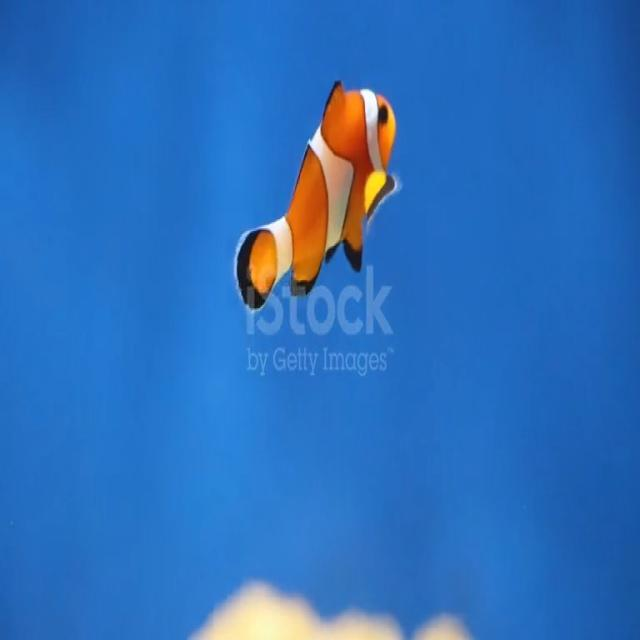fish: (234, 66, 404, 319)
